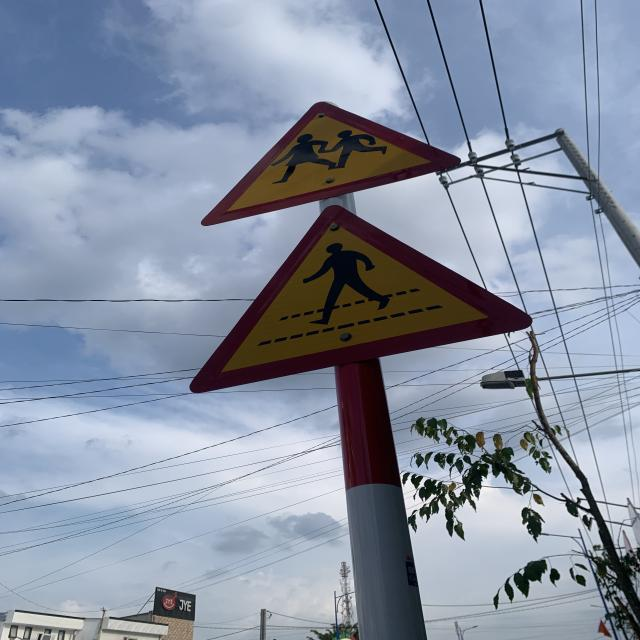Duong_Nguoi_Di_Bo_Sang_Ngang: (192, 204, 532, 390)
Vong_Xuyen: (200, 101, 461, 226)
